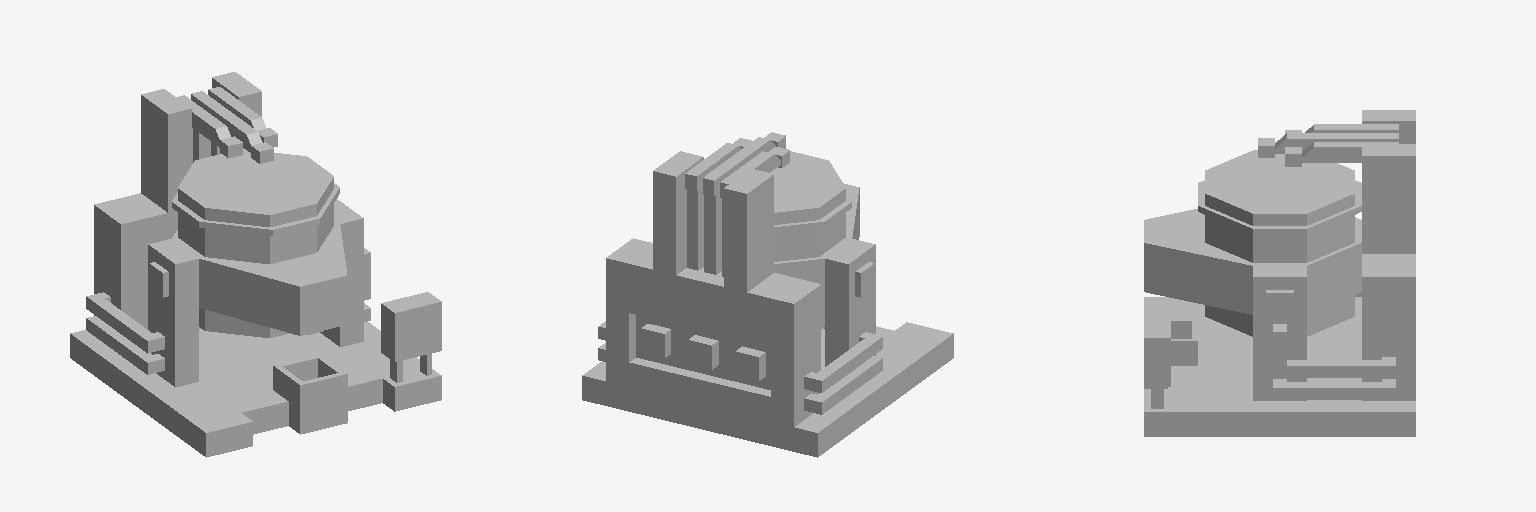
File: arcFurnace_mirrored.obj
3 renders of one model, left to right at view 1: azimuth 30°, elevation 25°; view 2: azimuth 150°, elevation 25°; view 3: azimuth 270°, elevation 25°, orthographic.
Parts seen in each view (by area): view 1: base, furnace; view 2: base, furnace; view 3: base, furnace.
Part boxes in pixels (bbox=[...]): base: bbox=[70, 72, 441, 457]; furnace: bbox=[149, 149, 347, 337]; base: bbox=[582, 132, 953, 457]; furnace: bbox=[770, 151, 874, 328]; base: bbox=[1144, 110, 1415, 436]; furnace: bbox=[1144, 150, 1361, 336].
Bounding box in the file's own units: 5 × 5 × 5.